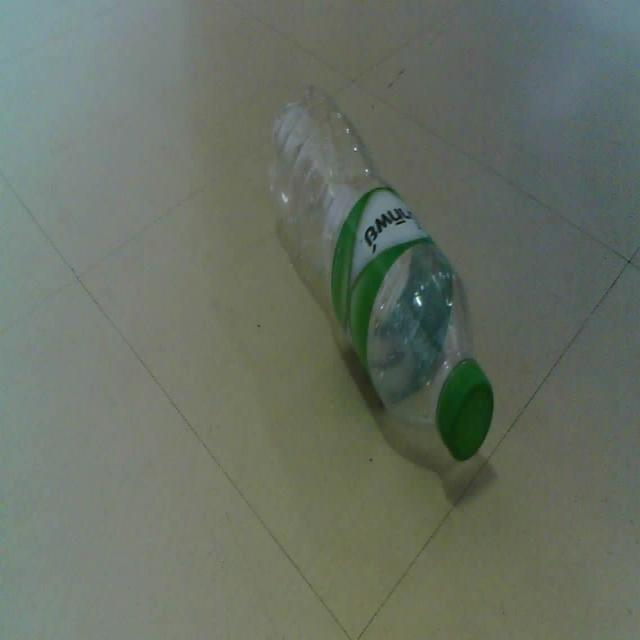empty: (271, 89, 493, 459)
